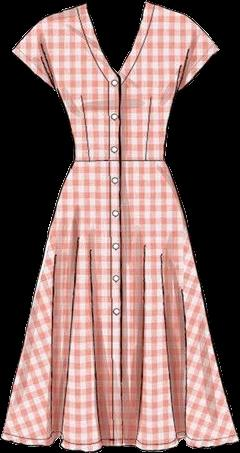Bodice: (36, 1, 198, 160)
Hemline: (0, 435, 239, 452)
Neckline: (82, 1, 148, 75)
Skirt: (1, 159, 238, 451)
Sleeve: (178, 25, 219, 90), (12, 25, 53, 88)
Sleeveline: (174, 26, 201, 89), (34, 24, 57, 89)
Waistline: (70, 155, 165, 164)
